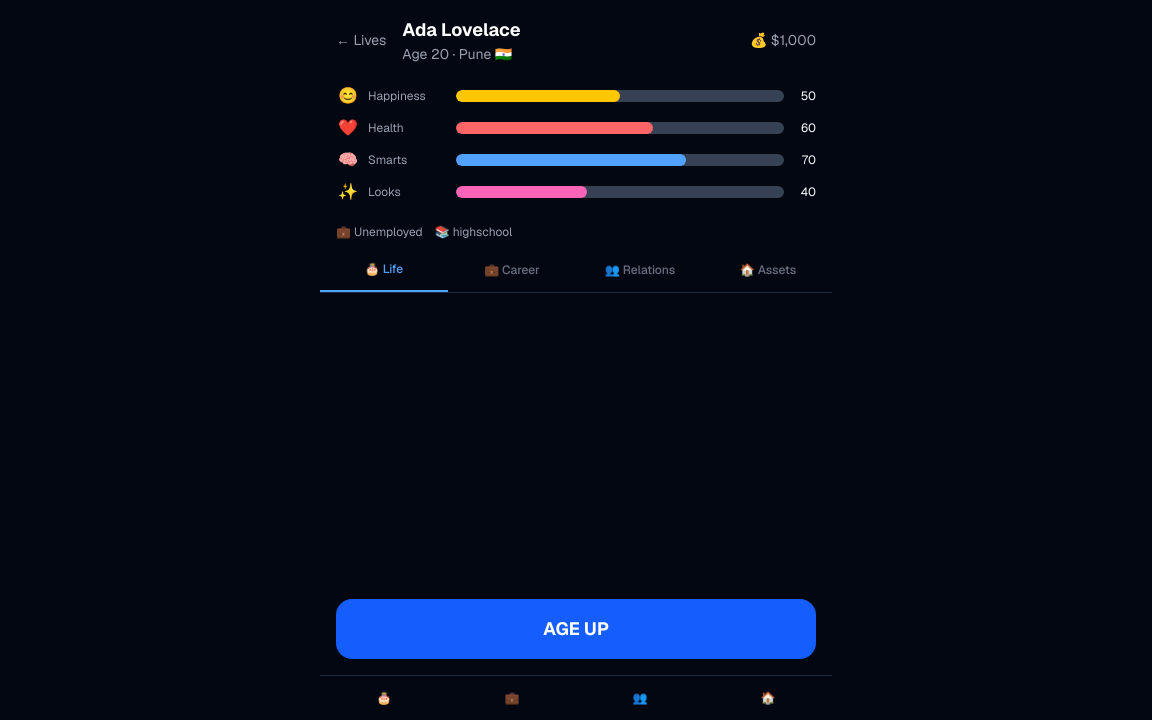
Test case: GameDashboard › shows the returned event after AGE UP
Click the button "AGE UP": (576, 629) [336,599,816,659]
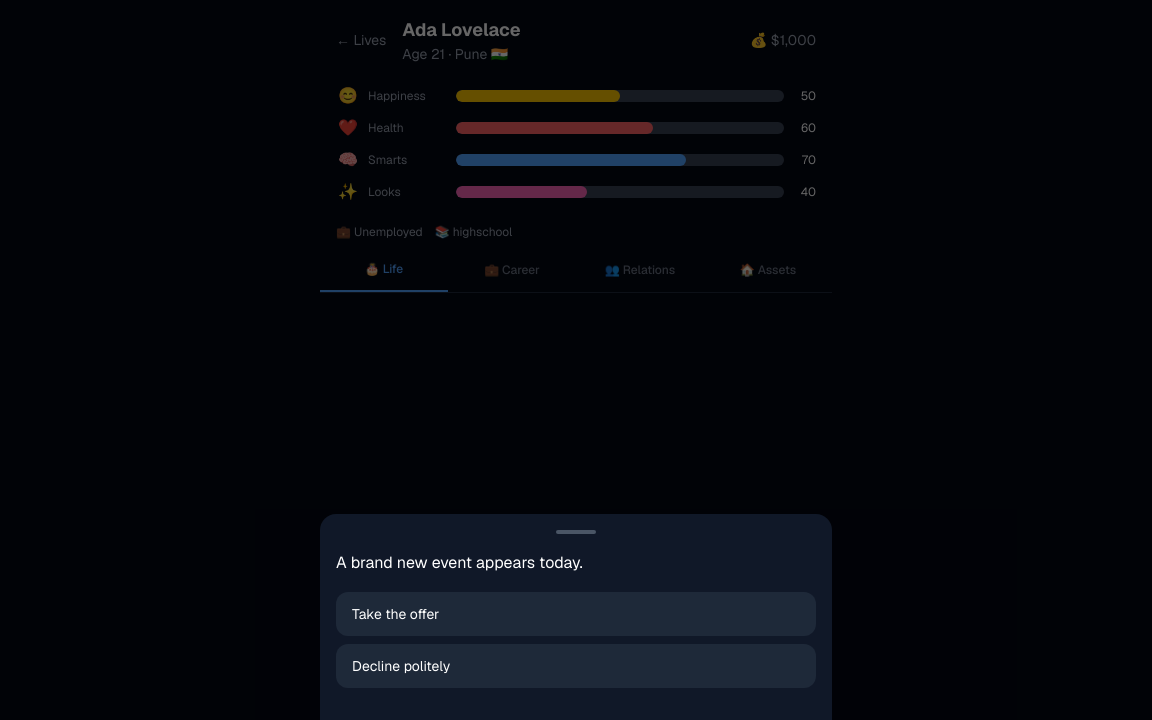
Result: the text "A brand new event appears today." is shown at [336,552,583,573]
